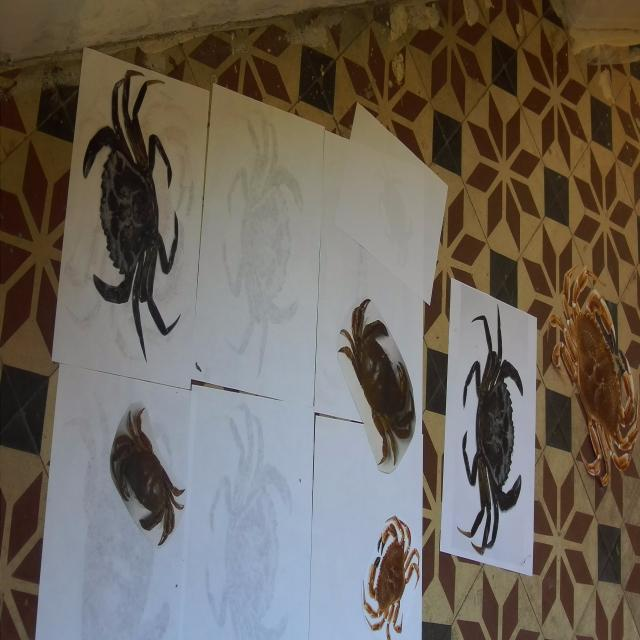European_Green_Crab: (74, 60, 190, 379), (456, 299, 530, 561)
